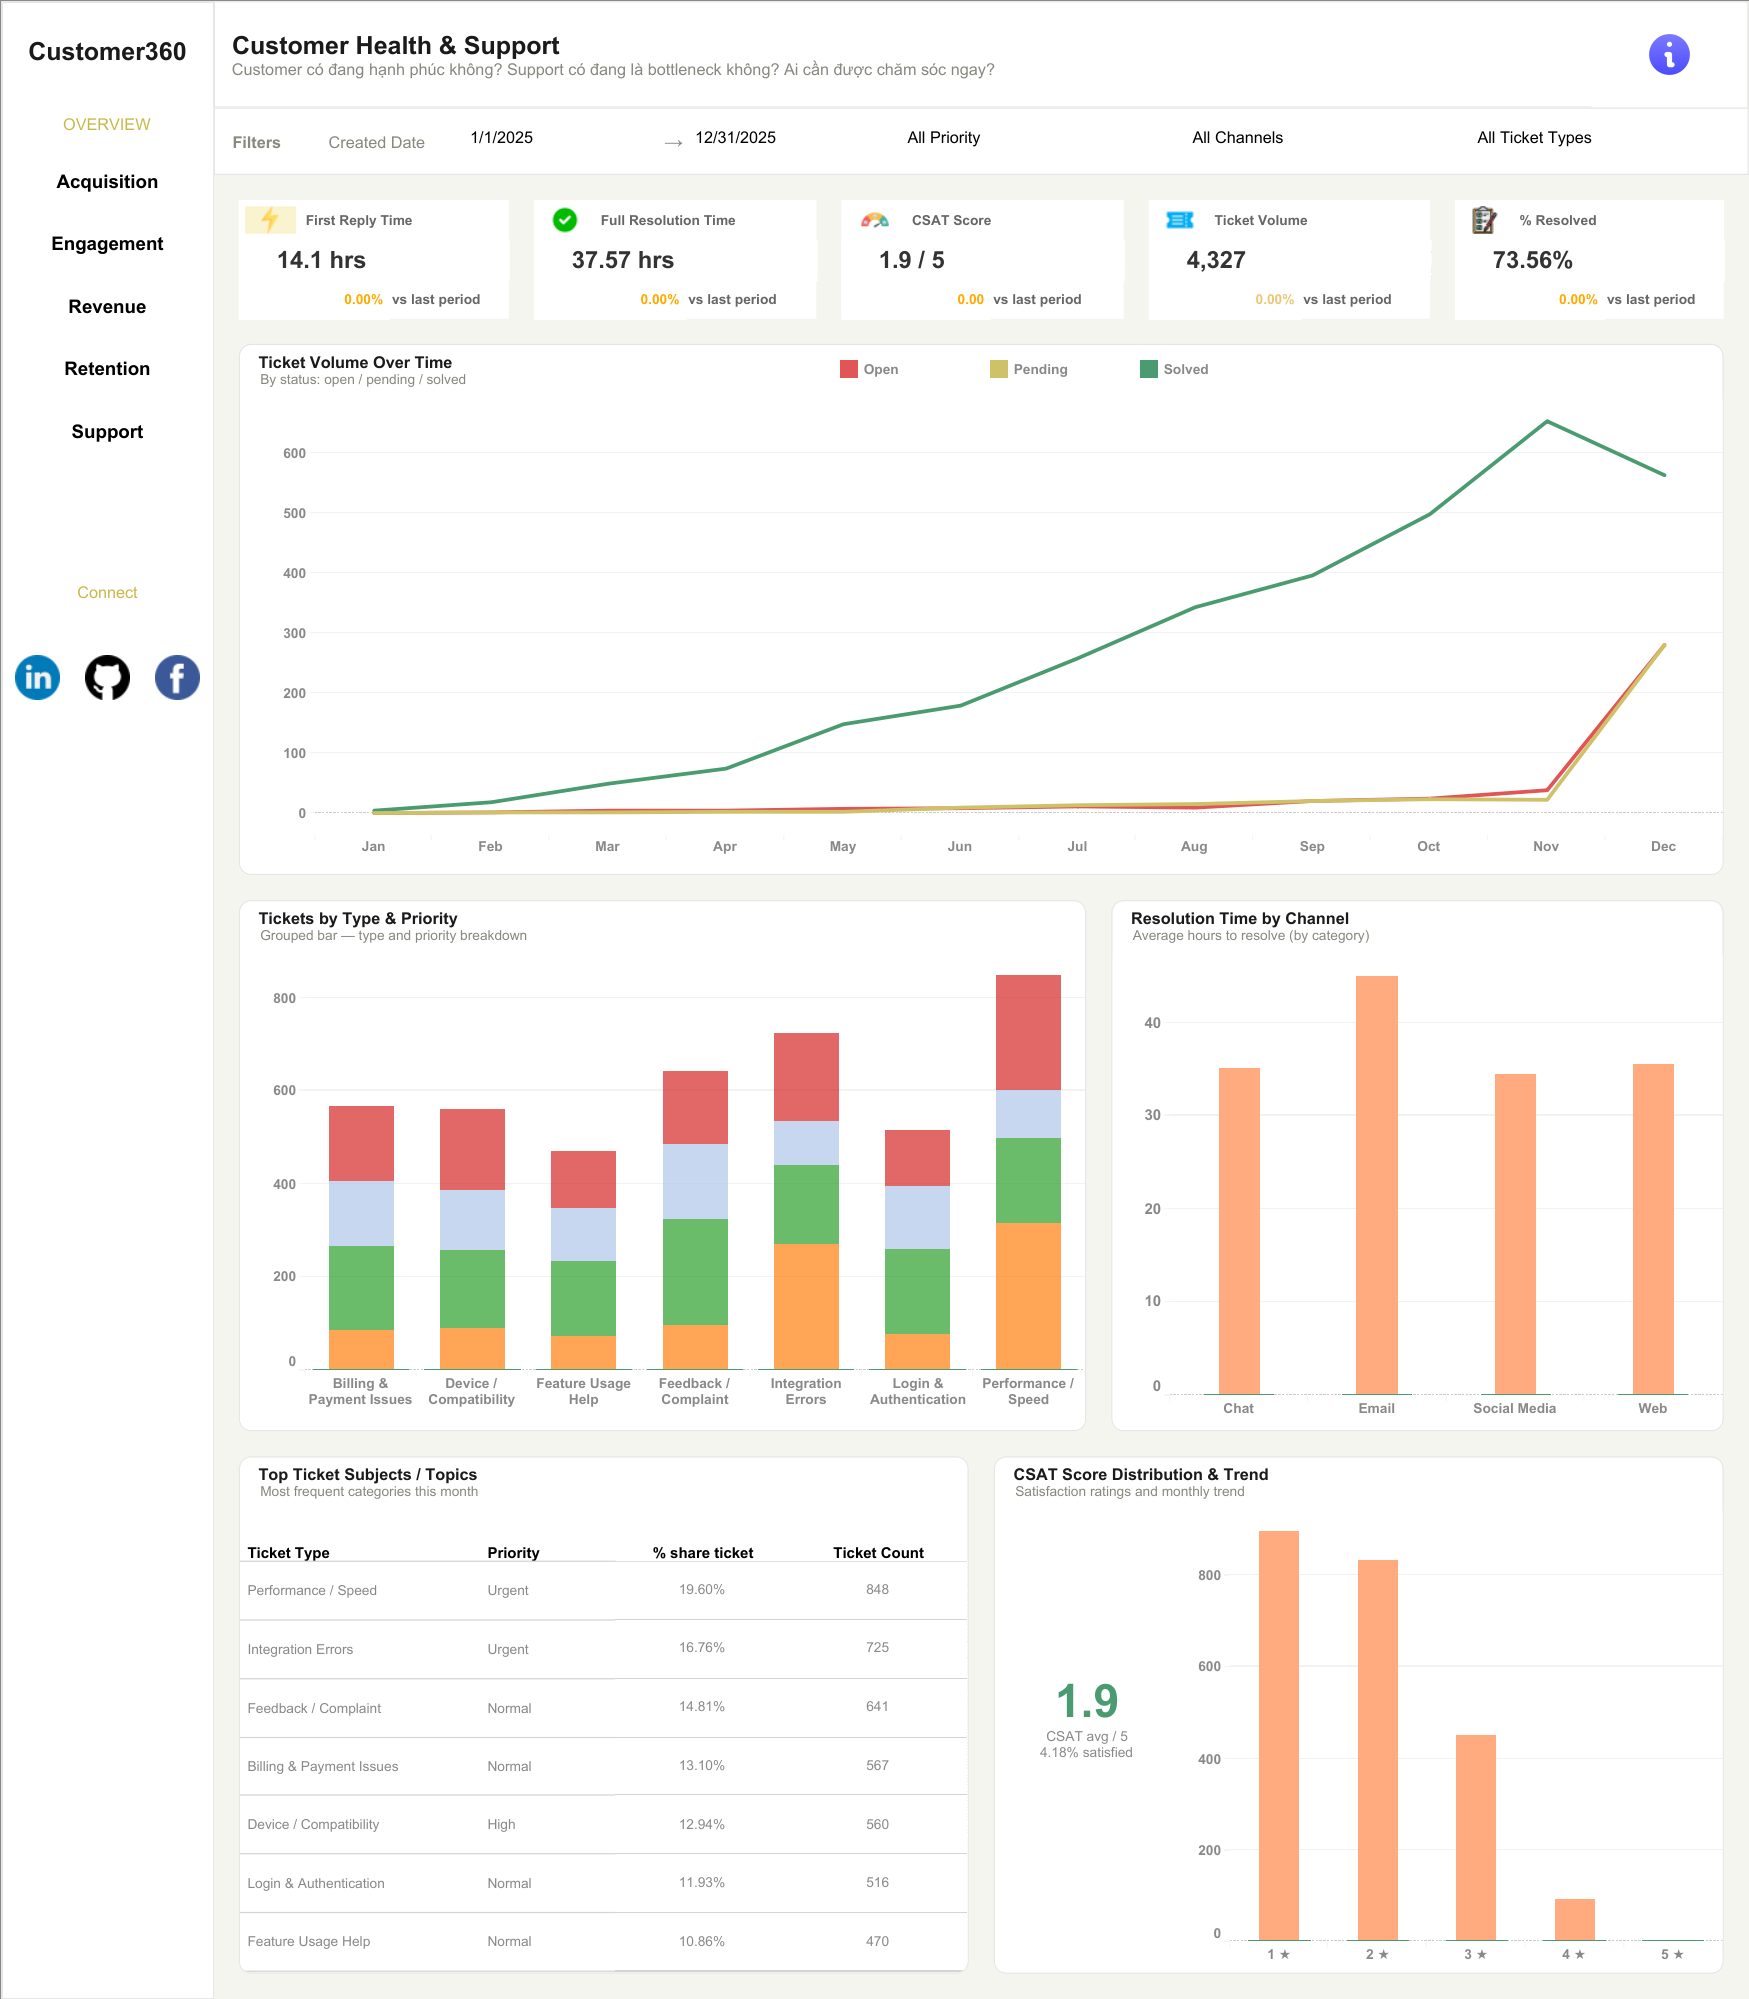

Layout of this report page (visuals, bound fields, positions):
{"tool":"tableau","page":{"name":"DB support","canvas":[1400,1600],"ordinal":4},"visuals":[{"type":"text","box":[2,2,168,77]},{"type":"text","box":[172,2,1101,83]},{"type":"worksheet","title":"support info","mark":"Shape","box":[1273,2,125,83]},{"type":"text","box":[2,79,168,41]},{"type":"text","box":[172,87,67,49]},{"type":"text","box":[239,87,125,49]},{"type":"parameter","param":"[Parameters].[Parameter 1]","box":[374,97,150,29]},{"type":"text","box":[524,97,30,29]},{"type":"parameter","param":"[Parameters].[Start Date (copy)_0611647334416384]","box":[554,97,150,29]},{"type":"parameter","param":"[Parameters].[Parameter 12]","box":[704,97,228,29]},{"type":"parameter","param":"[Parameters].[Parameter 13]","box":[932,97,228,29]},{"type":"parameter","param":"[Parameters].[Parameter 11]","box":[1160,97,228,29]},{"type":"dashboard-object","box":[2,120,168,50]},{"type":"image","param":"Image/first reply.png","box":[191,157,51,32]},{"type":"text","box":[242,157,165,32]},{"type":"image","param":"Image/full resolution.png","box":[427,157,51,32]},{"type":"text","box":[478,157,175,32]},{"type":"image","param":"Image/csat.png","box":[673,157,54,32]},{"type":"text","box":[727,157,172,32]},{"type":"image","param":"Image/ticket.png","box":[919,157,50,32]},{"type":"text","box":[969,157,175,32]},{"type":"image","param":"Image/resolved.png","box":[1164,157,49,32]},{"type":"text","box":[1213,157,166,32]},{"type":"dashboard-object","box":[2,170,168,50]},{"type":"worksheet","title":"p5 kpi first reply time","mark":"Automatic","box":[191,189,216,32]},{"type":"worksheet","title":"p5 kpi full resolution time","mark":"Automatic","box":[427,189,226,32]},{"type":"worksheet","title":"p5 kpi csat","mark":"Automatic","box":[673,189,226,32]},{"type":"worksheet","title":"p5 kpi ticket volume","mark":"Automatic","box":[919,189,225,32]},{"type":"worksheet","title":"p5 kpi % resoloved","mark":"Automatic","box":[1164,189,215,32]},{"type":"dashboard-object","box":[2,220,168,50]},{"type":"worksheet","title":"p5 kpi first reply time change","mark":"Automatic","box":[191,221,120,31]},{"type":"text","box":[311,221,96,31]},{"type":"worksheet","title":"p5 kpi full resolution time change","mark":"Automatic","box":[427,221,121,31]},{"type":"text","box":[548,221,105,31]},{"type":"worksheet","title":"p5 kpi csat change","mark":"Automatic","box":[673,221,119,31]},{"type":"text","box":[792,221,107,31]},{"type":"worksheet","title":"p5 kpi ticket volume change","mark":"Automatic","box":[919,221,121,31]},{"type":"text","box":[1040,221,104,31]},{"type":"worksheet","title":"p5 kpi % resolved change","mark":"Automatic","box":[1164,221,119,31]},{"type":"text","box":[1283,221,96,31]},{"type":"worksheet","title":"p5 chart ticket volume over time","mark":"Automatic","rows":["open_count"],"cols":["created_date"],"box":[171,262,1228,446]},{"type":"dashboard-object","box":[2,270,168,50]},{"type":"legend","title":"p5 chart ticket volume over time","param":"[federated.033s2fr03x0ugy1a9e3xn055nots].[:Measure Names]","box":[669,285,376,33]},{"type":"dashboard-object","box":[2,320,168,50]},{"type":"blank","box":[2,370,168,63]},{"type":"text","box":[2,433,168,80]},{"type":"image","param":"Image/linkedin.png","box":[2,513,56,58]},{"type":"image","param":"Image/github.png","box":[58,513,56,58]},{"type":"image","param":"Image/facebook.png","box":[114,513,56,58]},{"type":"blank","box":[2,571,168,1027]},{"type":"worksheet","title":"p5 chart tickets by type & priority","mark":"Automatic","rows":["Calculation_0018187716198417","Calculation_0161405879676960"],"cols":["ticket_type"],"box":[171,708,708,446]},{"type":"worksheet","title":"p5 chart resolution time by channel","mark":"Bar","rows":["Calculation_0018187710869515","Calculation_0161405875916823"],"cols":["channel"],"box":[879,708,520,446]},{"type":"legend","title":"p5 chart tickets by type & priority","param":"[federated.033s2fr03x0ugy1a9e3xn055nots].[none:priority:nk]","box":[651,726,249,51]},{"type":"worksheet","title":"p5 chart top ticket by subject","mark":"Automatic","rows":["ticket_type","Calculation_0506370986024961"],"box":[171,1154,614,445]},{"type":"worksheet","title":"p5 chart csat score distribution","mark":"Bar","rows":["Calculation_0161405878038557","Calculation_0161405878071327"],"cols":["satisfaction_rating"],"box":[785,1154,614,445]},{"type":"worksheet","title":"p5 kpi chart csat avg","mark":"Automatic","box":[816,1314,108,119]}]}

Visuals, with their boxes in screenshot pixels (x1, y1, x2, y2), scaled from the page's 1400x1600 canvas onto the 1749x1999 screenshot:
text: [2, 2, 212, 99]
text: [215, 2, 1590, 106]
"support info" worksheet (Shape marks): [1590, 2, 1747, 106]
text: [2, 99, 212, 150]
text: [215, 109, 299, 170]
text: [299, 109, 455, 170]
parameter: [467, 121, 655, 157]
text: [655, 121, 692, 157]
parameter: [692, 121, 879, 157]
parameter: [879, 121, 1164, 157]
parameter: [1164, 121, 1449, 157]
parameter: [1449, 121, 1734, 157]
dashboard-object: [2, 150, 212, 212]
image: [239, 196, 302, 236]
text: [302, 196, 508, 236]
image: [533, 196, 597, 236]
text: [597, 196, 816, 236]
image: [841, 196, 908, 236]
text: [908, 196, 1123, 236]
image: [1148, 196, 1211, 236]
text: [1211, 196, 1429, 236]
image: [1454, 196, 1515, 236]
text: [1515, 196, 1723, 236]
dashboard-object: [2, 212, 212, 275]
"p5 kpi first reply time" worksheet: [239, 236, 508, 276]
"p5 kpi full resolution time" worksheet: [533, 236, 816, 276]
"p5 kpi csat" worksheet: [841, 236, 1123, 276]
"p5 kpi ticket volume" worksheet: [1148, 236, 1429, 276]
"p5 kpi % resoloved" worksheet: [1454, 236, 1723, 276]
dashboard-object: [2, 275, 212, 337]
"p5 kpi first reply time change" worksheet: [239, 276, 389, 315]
text: [389, 276, 508, 315]
"p5 kpi full resolution time change" worksheet: [533, 276, 685, 315]
text: [685, 276, 816, 315]
"p5 kpi csat change" worksheet: [841, 276, 989, 315]
text: [989, 276, 1123, 315]
"p5 kpi ticket volume change" worksheet: [1148, 276, 1299, 315]
text: [1299, 276, 1429, 315]
"p5 kpi % resolved change" worksheet: [1454, 276, 1603, 315]
text: [1603, 276, 1723, 315]
"p5 chart ticket volume over time" worksheet: [214, 327, 1748, 885]
dashboard-object: [2, 337, 212, 400]
"p5 chart ticket volume over time" legend: [836, 356, 1306, 397]
dashboard-object: [2, 400, 212, 462]
blank: [2, 462, 212, 541]
text: [2, 541, 212, 641]
image: [2, 641, 72, 713]
image: [72, 641, 142, 713]
image: [142, 641, 212, 713]
blank: [2, 713, 212, 1997]
"p5 chart tickets by type & priority" worksheet: [214, 885, 1098, 1442]
"p5 chart resolution time by channel" worksheet (Bar marks): [1098, 885, 1748, 1442]
"p5 chart tickets by type & priority" legend: [813, 907, 1124, 971]
"p5 chart top ticket by subject" worksheet: [214, 1442, 981, 1998]
"p5 chart csat score distribution" worksheet (Bar marks): [981, 1442, 1748, 1998]
"p5 kpi chart csat avg" worksheet: [1019, 1642, 1154, 1790]
